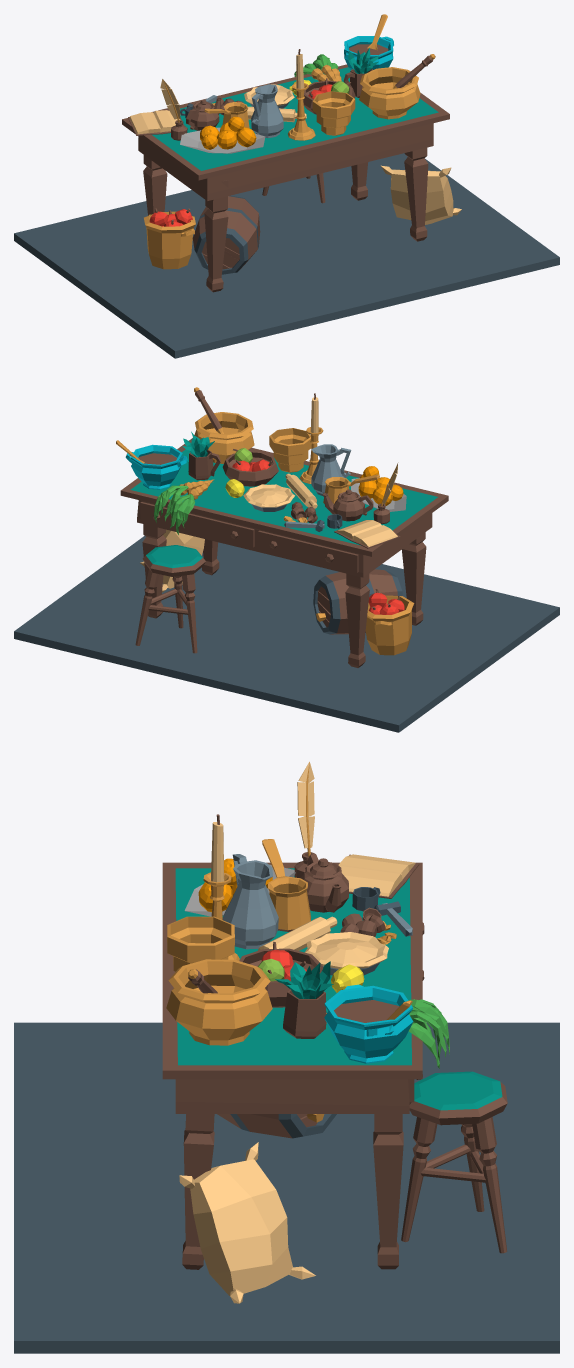
The model's file is Kitchen_Table.glb.
The picture shows the model from 3 angles, top to bottom: view 1: azimuth 30°, elevation 25°; view 2: azimuth 150°, elevation 25°; view 3: azimuth 270°, elevation 25°; orthographic projection. The views are drawn at different scales.
Parts seen in each view (by area): view 1: group1636358073, group1408092273, group480967475, group1778453459, group1885818189, group1514780482, group436849853, group1110464148, group207404798, group1135272312, group150217312, group717896419 (+10 smaller); view 2: group1636358073, group1408092273, group2001912568, group480967475, group1778453459, group717896419, group1885818189, group1169867120, group1057983476, group1110464148, group1135272312, group436849853 (+14 smaller); view 3: group1636358073, group1408092273, group1514780482, group2001912568, group1885818189, group717896419, group1155444155, group150217312, group1414039194, group1135272312, group207404798, group1663536036 (+10 smaller).
Boxes of the visible parts, x1,y1,x2,y2 form: group1636358073: (14,153,559,358); group1408092273: (122,64,449,200); group480967475: (192,195,260,274); group1778453459: (144,208,195,269); group1885818189: (359,67,420,119); group1514780482: (381,165,461,224); group436849853: (180,116,265,153); group1110464148: (204,180,228,292); group207404798: (404,147,428,241); group1135272312: (312,91,355,135); group150217312: (251,84,283,138); group717896419: (344,14,393,69); group1636358073: (14,536,559,732); group1408092273: (120,438,448,577); group2001912568: (135,545,205,653); group480967475: (313,569,402,634); group1778453459: (365,589,414,655); group717896419: (116,440,187,489); group1885818189: (194,412,254,463); group1169867120: (345,573,369,667); group1057983476: (222,448,278,486); group1110464148: (402,532,426,625); group1135272312: (269,428,311,472); group436849853: (351,466,406,511); group1636358073: (14,1022,559,1353); group1408092273: (162,862,422,1113); group1514780482: (179,1142,315,1303); group2001912568: (401,1071,507,1253); group1885818189: (166,959,272,1045); group717896419: (324,984,413,1063); group1155444155: (373,1114,403,1269); group150217312: (222,854,278,949); group1414039194: (275,961,333,1038); group1135272312: (167,916,234,971); group207404798: (182,1114,214,1269); group1663536036: (304,932,388,975).
Size of the model in its own units: 3.2 by 1.75 by 2.32.
